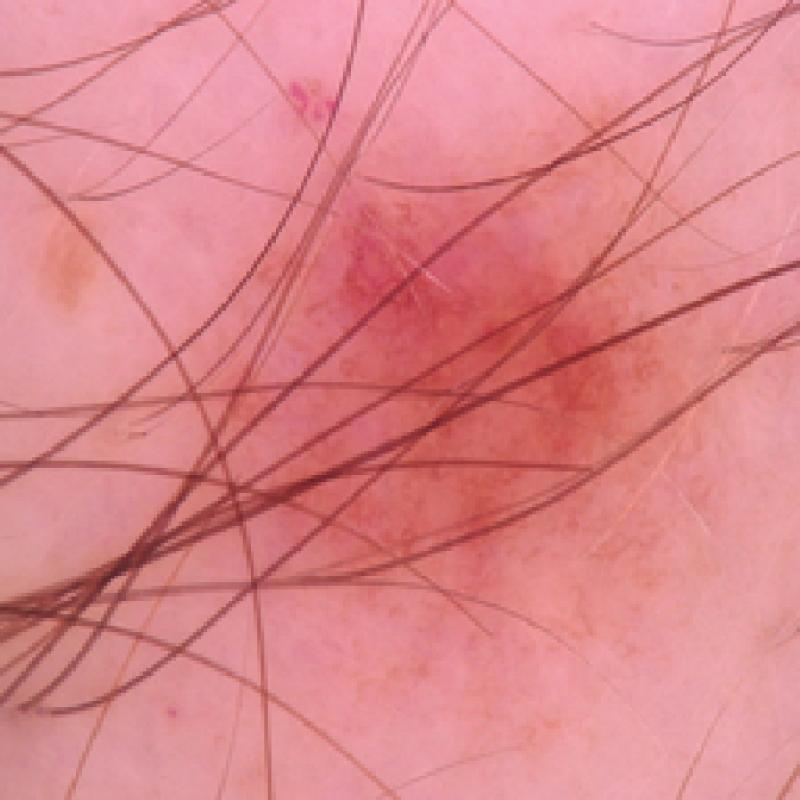benign: (223, 60, 681, 586)
